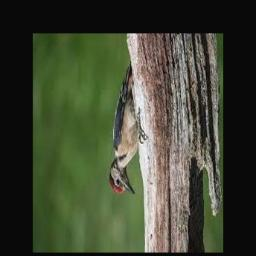Woodpecker: (109, 64, 139, 194)
